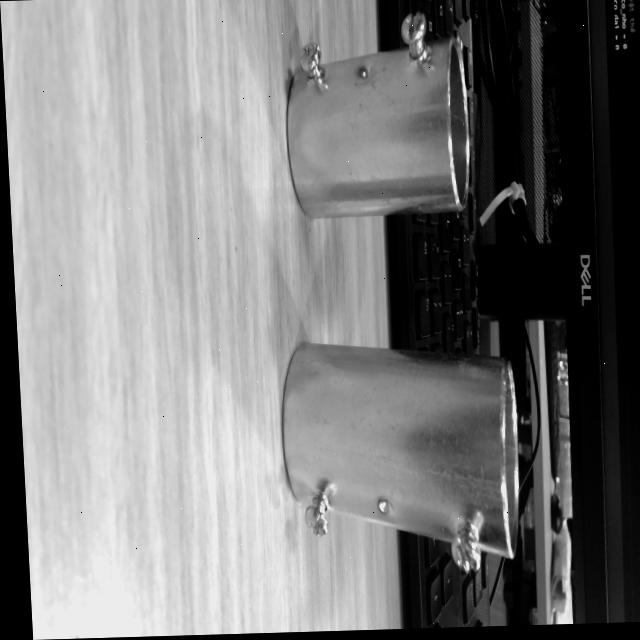Co_Lon: (272, 340, 530, 575)
Co_Nho: (282, 10, 473, 219)
